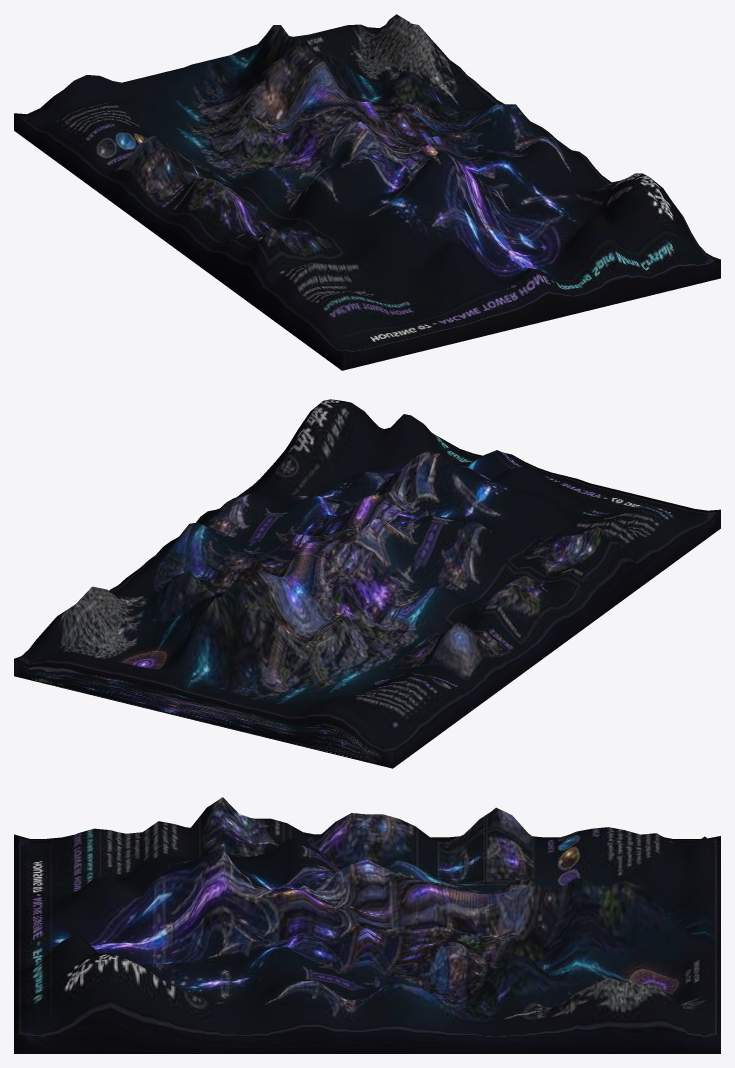
The model's file is HOUSING_07_Arcane_Tower_Home.glb.
3 views of the same model, one above another, from view 1: azimuth 30°, elevation 25°; view 2: azimuth 150°, elevation 25°; view 3: azimuth 270°, elevation 25° (orthographic). The views are drawn at different scales.
Parts seen in each view (by area): view 1: HOUSING_07_Arcane_Tower_Home; view 2: HOUSING_07_Arcane_Tower_Home; view 3: HOUSING_07_Arcane_Tower_Home.
Part boxes in pixels (x1=…): HOUSING_07_Arcane_Tower_Home: x1=14, y1=14, x2=720, y2=370; HOUSING_07_Arcane_Tower_Home: x1=14, y1=399, x2=720, y2=768; HOUSING_07_Arcane_Tower_Home: x1=14, y1=797, x2=720, y2=1053.
Bounding box in the file's own units: 2 × 0.51 × 3.
1 material, 1 textured.
